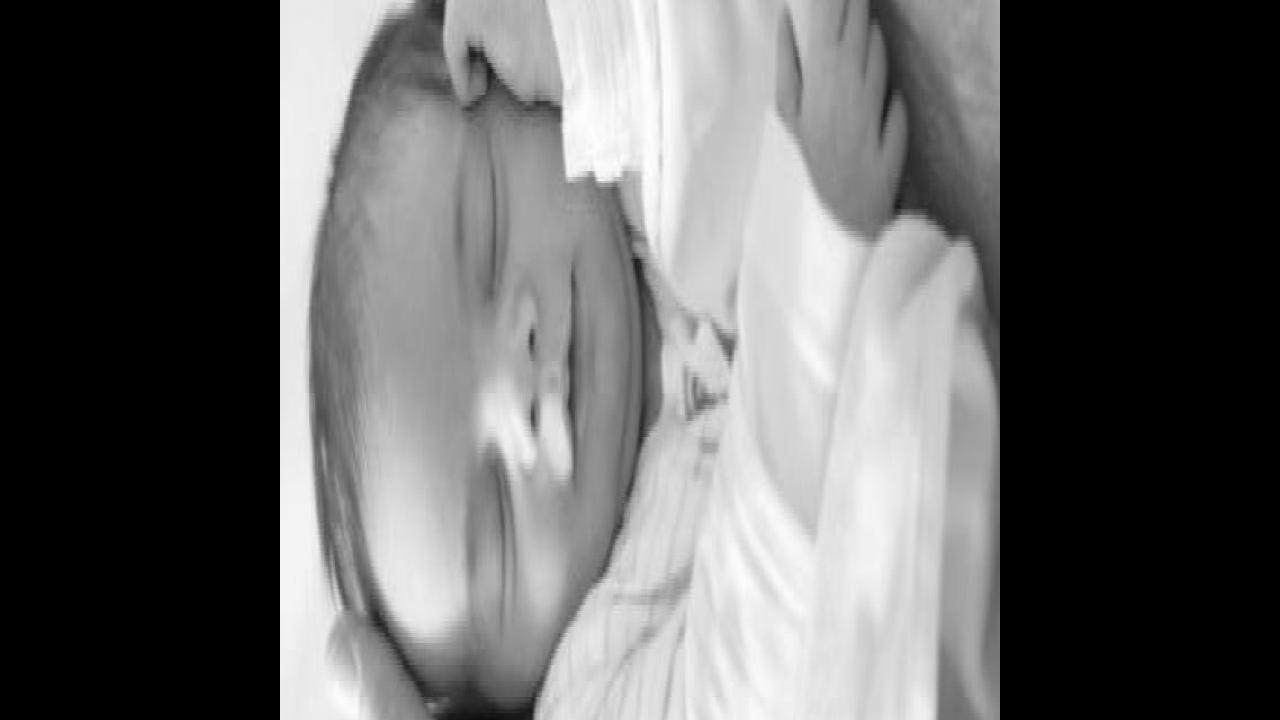hand: (773, 0, 913, 251), (443, 0, 549, 112)
